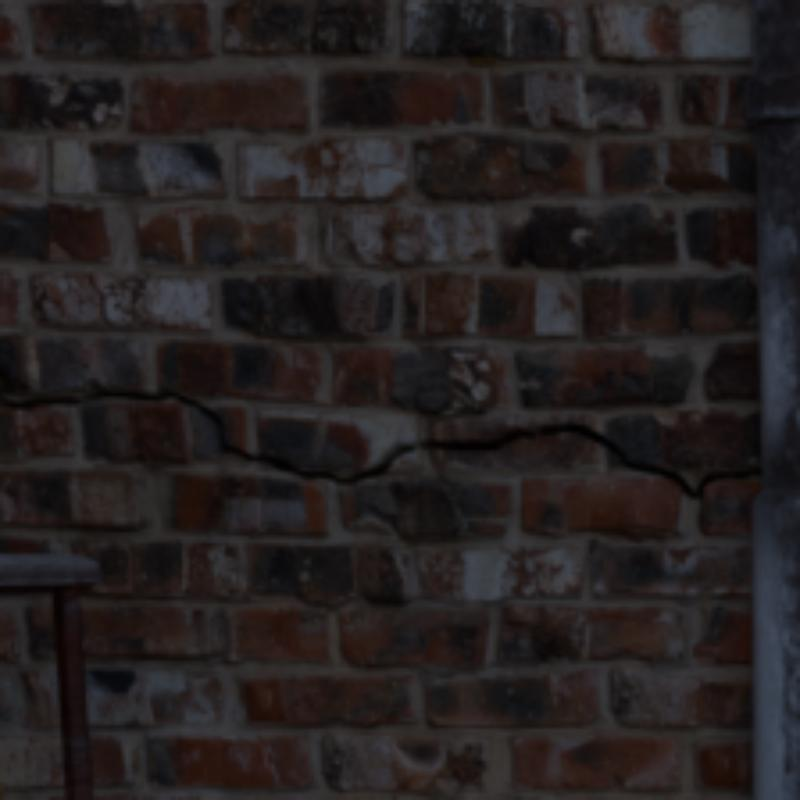pothole: (0, 389, 761, 496), (86, 275, 114, 329)
